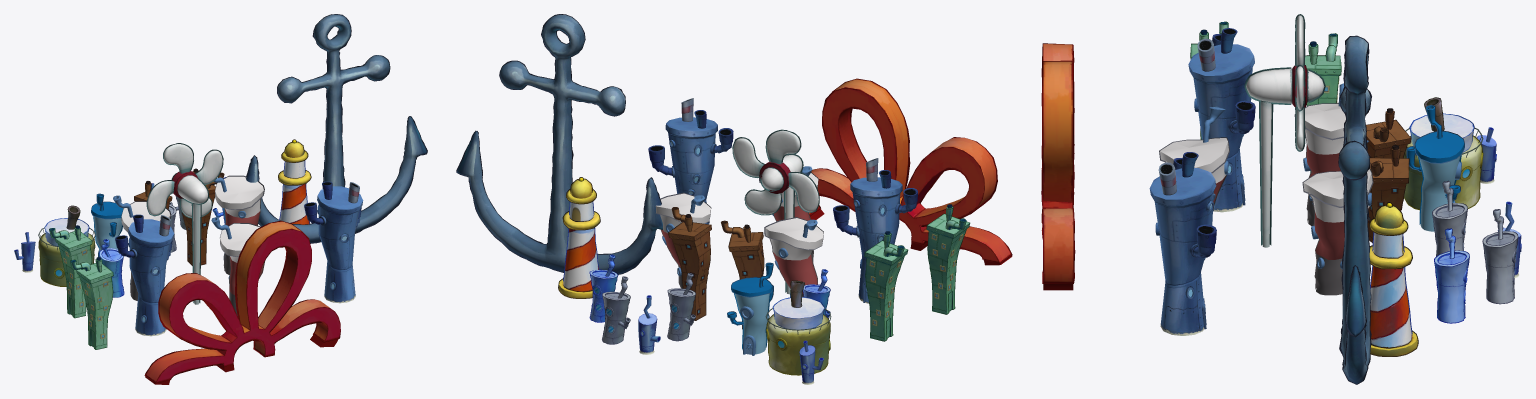
Rendered from downtown_fullset.glb.
3 views of the same model, side by side, from view 1: azimuth 30°, elevation 25°; view 2: azimuth 150°, elevation 25°; view 3: azimuth 270°, elevation 25° (orthographic). The views are drawn at different scales.
Parts seen in each view (by area): view 1: Object_20, Object_22, Object_2, Object_18, Object_19, Object_11, Object_23, Object_6, Object_3, Object_17, Object_5, Object_12 (+6 smaller); view 2: Object_20, Object_2, Object_22, Object_18, Object_19, Object_17, Object_6, Object_23, Object_11, Object_4, Object_5, Object_3 (+5 smaller); view 3: Object_22, Object_2, Object_20, Object_23, Object_19, Object_11, Object_4, Object_6, Object_17, Object_5, Object_18, Object_12 (+8 smaller).
Boxes of the visible parts, x1=… form: Object_20: x1=144, y1=220, x2=340, y2=384; Object_22: x1=115, y1=181, x2=363, y2=336; Object_2: x1=246, y1=14, x2=427, y2=242; Object_18: x1=49, y1=225, x2=113, y2=349; Object_19: x1=146, y1=143, x2=223, y2=304; Object_11: x1=121, y1=176, x2=263, y2=262; Object_23: x1=278, y1=139, x2=311, y2=224; Object_6: x1=38, y1=205, x2=95, y2=286; Object_3: x1=245, y1=14, x2=427, y2=243; Object_17: x1=134, y1=168, x2=224, y2=265; Object_5: x1=99, y1=177, x2=225, y2=297; Object_12: x1=91, y1=194, x2=123, y2=256; Object_20: x1=809, y1=78, x2=1012, y2=265; Object_2: x1=457, y1=14, x2=662, y2=274; Object_22: x1=648, y1=98, x2=917, y2=303; Object_18: x1=864, y1=204, x2=970, y2=341; Object_19: x1=732, y1=129, x2=819, y2=294; Object_17: x1=668, y1=207, x2=764, y2=329; Object_6: x1=765, y1=280, x2=831, y2=375; Object_23: x1=558, y1=177, x2=600, y2=298; Object_11: x1=655, y1=173, x2=823, y2=260; Object_4: x1=602, y1=273, x2=695, y2=344; Object_5: x1=589, y1=254, x2=830, y2=322; Object_3: x1=456, y1=14, x2=661, y2=274; Object_22: x1=1149, y1=28, x2=1255, y2=335; Object_2: x1=1339, y1=36, x2=1370, y2=383; Object_20: x1=1041, y1=43, x2=1075, y2=290; Object_23: x1=1369, y1=202, x2=1418, y2=356; Object_19: x1=1244, y1=14, x2=1325, y2=247; Object_11: x1=1160, y1=104, x2=1372, y2=222; Object_4: x1=1432, y1=180, x2=1518, y2=304; Object_6: x1=1403, y1=97, x2=1483, y2=210; Object_17: x1=1366, y1=108, x2=1411, y2=242; Object_5: x1=1434, y1=228, x2=1469, y2=323; Object_18: x1=1190, y1=21, x2=1341, y2=172; Object_12: x1=1407, y1=105, x2=1464, y2=224.
Size of the model in its own units: 316 by 170 by 226.
Materials: 22 (11 with a texture image).
